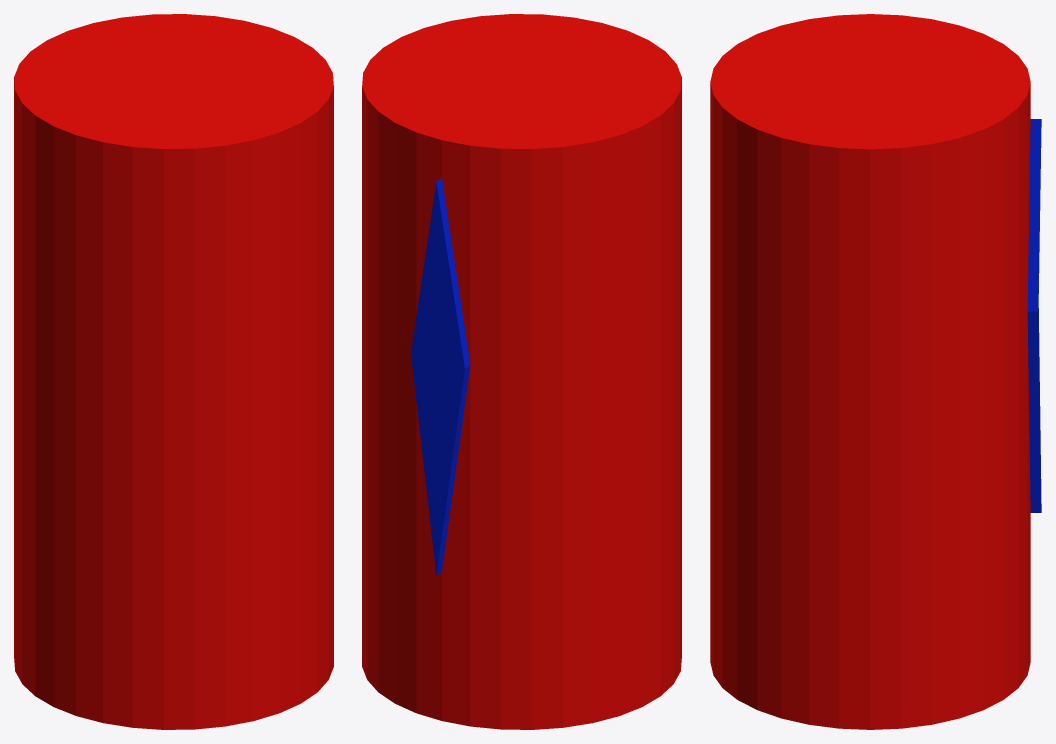
The model's file is player.gltf.
3 renders of one model, left to right at view 1: azimuth 30°, elevation 25°; view 2: azimuth 150°, elevation 25°; view 3: azimuth 270°, elevation 25°, orthographic.
Visible parts, largest first — view 1: Cylinder; view 2: Cylinder; view 3: Cylinder.
Boxes of the visible parts, x1=… form: Cylinder: x1=14, y1=14, x2=333, y2=729; Cylinder: x1=362, y1=14, x2=681, y2=729; Cylinder: x1=710, y1=14, x2=1041, y2=729.
Size of the model in its own units: 1 by 2 by 1.03.
